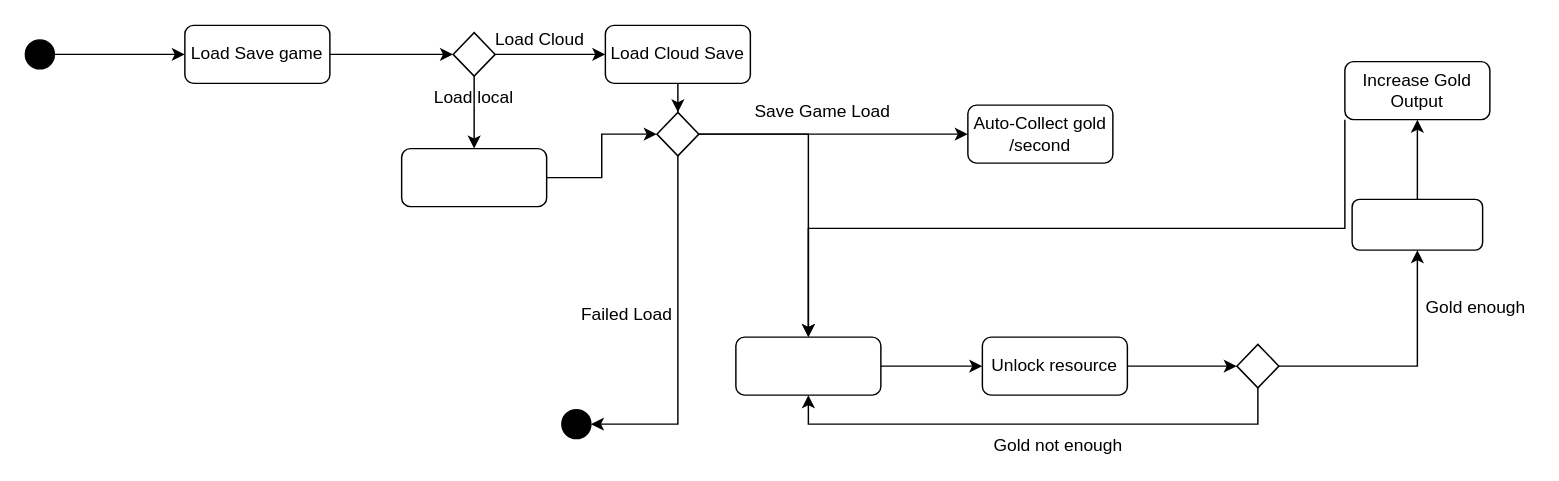
Some shapes in this 1559 by 481 pixel diagram are drawn without their labels. Here are the shapes that lost their labels. From the top down, the centre of each, then its label:
the point at 473,177: Local Save Game
the point at 1417,224: Substract Gold
the point at 807,365: Tap Coin
